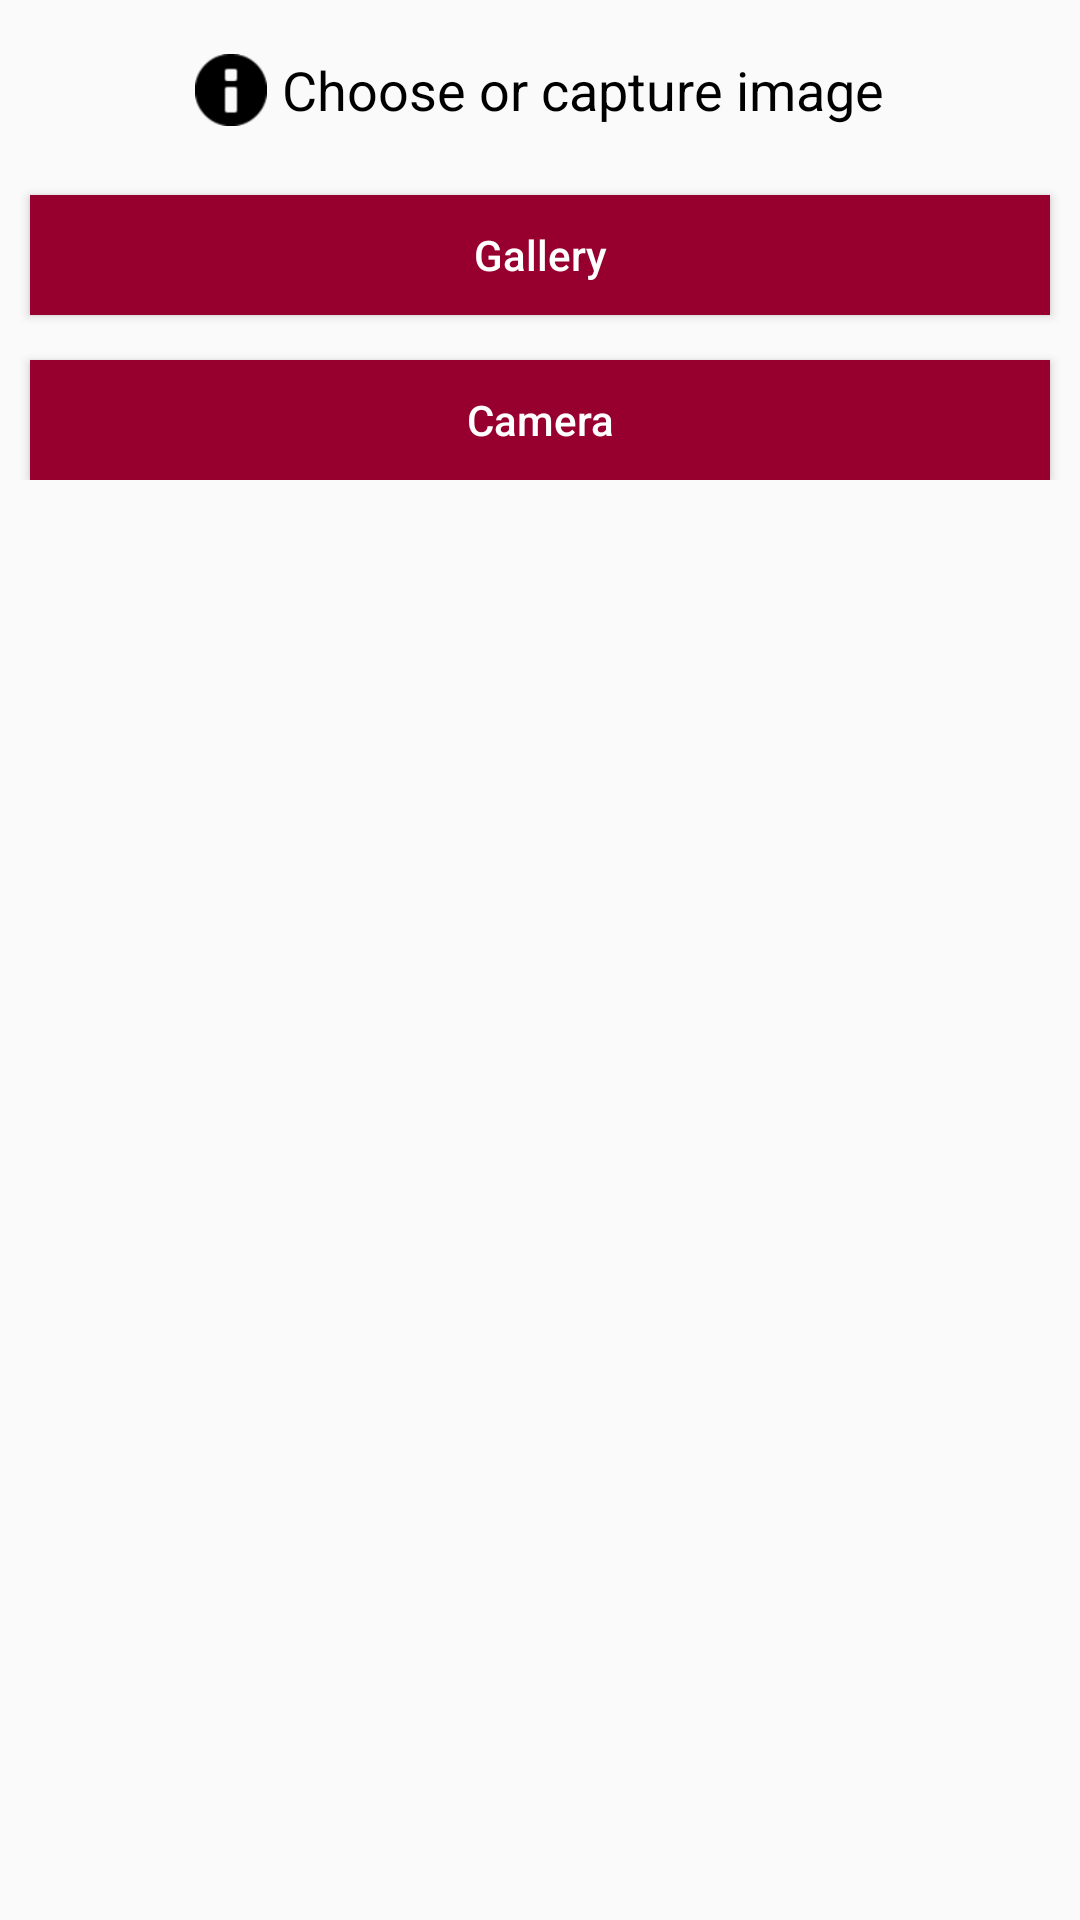

Icon click points for this 1080px x 1920px phone screenshot, format (x=x, y=y):
info: (x=231, y=90)
